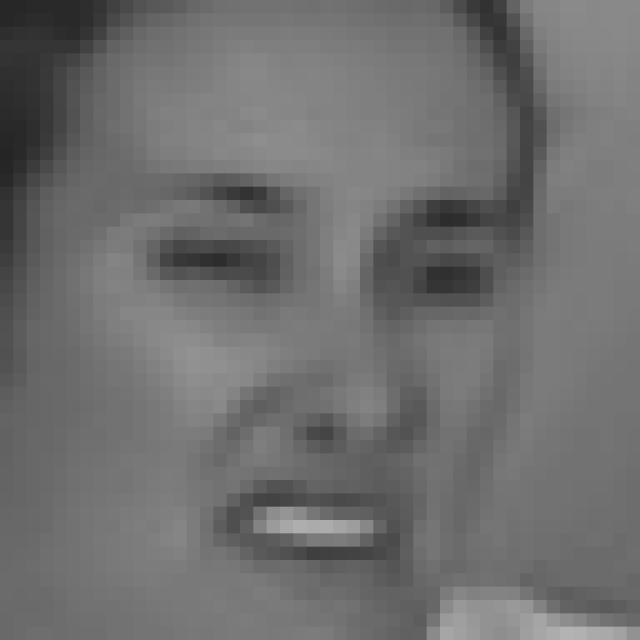disgust: (127, 169, 502, 583)
